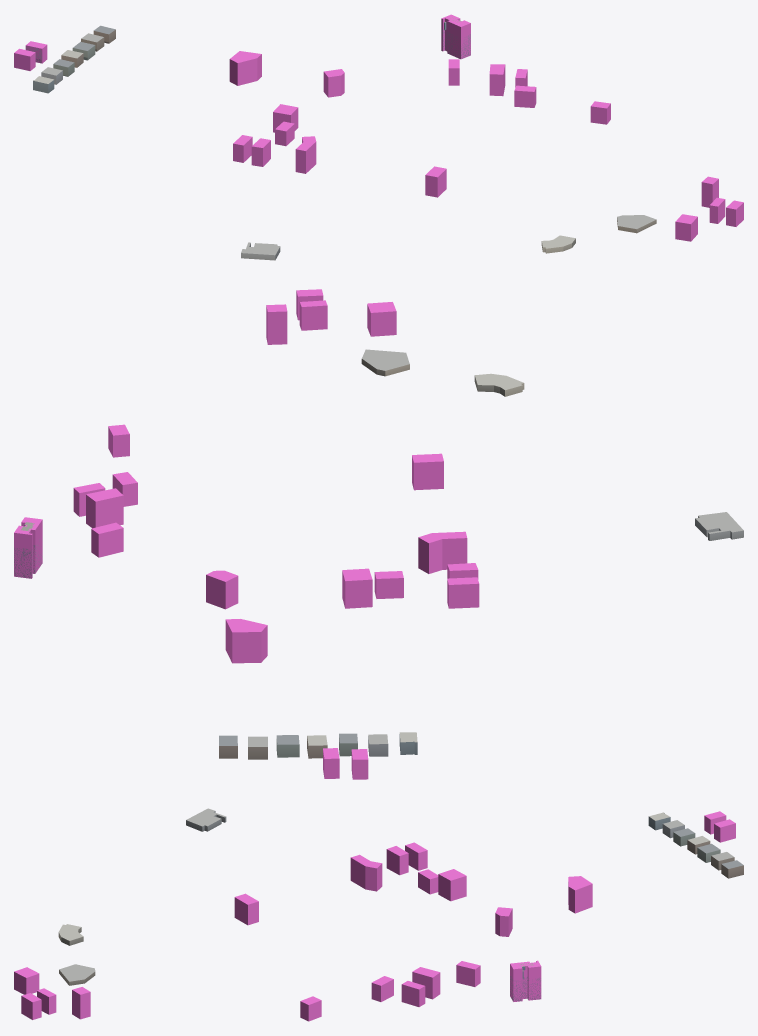
The model's file is bld_17_3.fbx.
3 views of the same model, one above another, from view 1: azimuth 30°, elevation 25°; view 2: azimuth 150°, elevation 25°; view 3: azimuth 270°, elevation 25° (orthographic). The views are drawn at different scales.
Parts seen in each view (by area): view 1: bld_17_3_COL, bld_17_3_LOD0; view 2: bld_17_3_COL, bld_17_3_LOD0; view 3: bld_17_3_COL, bld_17_3_LOD0.
Part boxes in pixels (x1=…): bld_17_3_COL: x1=14, y1=14, x2=743, y2=241; bld_17_3_LOD0: x1=26, y1=17, x2=656, y2=260; bld_17_3_COL: x1=14, y1=289, x2=479, y2=779; bld_17_3_LOD0: x1=14, y1=349, x2=743, y2=759; bld_17_3_COL: x1=14, y1=811, x2=735, y2=1021; bld_17_3_LOD0: x1=58, y1=808, x2=743, y2=1001.
Size of what is drawn, in the model's own units: 1099 by 81.05 by 1631.
